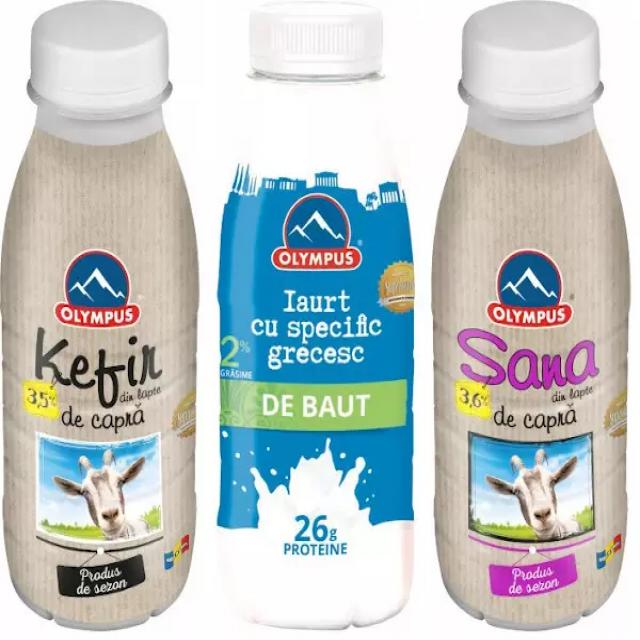yogurt: (427, 0, 640, 632), (0, 2, 203, 632), (218, 0, 421, 629)
